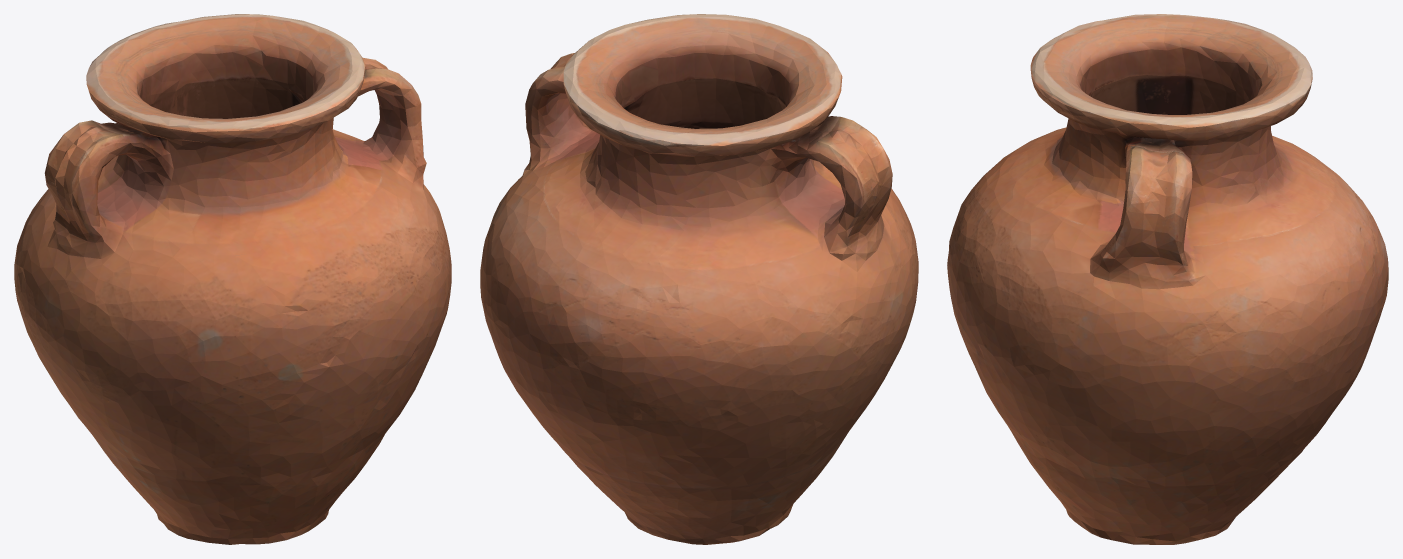
File: Create_a_medium_hig_0505194803_texture.fbx
3 views of the same model, side by side, from view 1: azimuth 30°, elevation 25°; view 2: azimuth 150°, elevation 25°; view 3: azimuth 270°, elevation 25° (orthographic).
Visible parts, largest first — view 1: temp; view 2: temp; view 3: temp.
Part boxes in pixels (bbox=[...]): temp: bbox=[14, 14, 451, 544]; temp: bbox=[480, 14, 918, 544]; temp: bbox=[947, 14, 1388, 544].
Size of the model in its own units: 178 by 200 by 178.
Materials: 1 (1 with a texture image).
